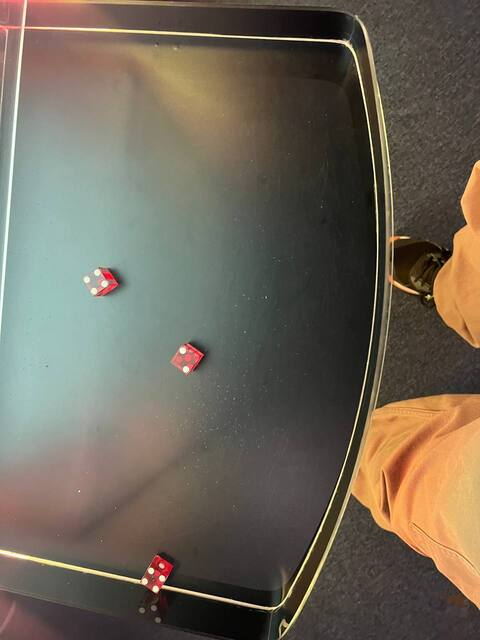four: (135, 565, 172, 595), (80, 263, 113, 296)
two: (168, 342, 202, 375)
